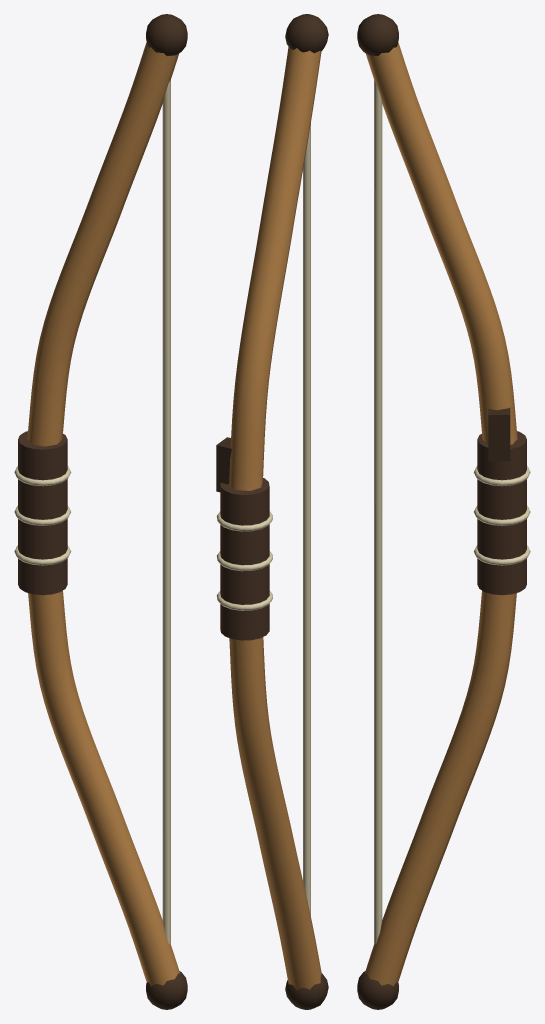
File: bow-v1.glb
3 renders of one model, left to right at view 1: azimuth 90°, elevation 25°; view 2: azimuth 150°, elevation 25°; view 3: azimuth 270°, elevation 25°, orthographic.
Visible parts, largest first — view 1: WeaponDrawn; view 2: WeaponDrawn; view 3: WeaponDrawn.
Boxes of the visible parts, <box> form: WeaponDrawn: <box>14,14,187,1009</box>; WeaponDrawn: <box>216,14,328,1009</box>; WeaponDrawn: <box>357,14,530,1009</box>.
Size of the model in its own units: 0.078 by 1.5 by 0.2375.
